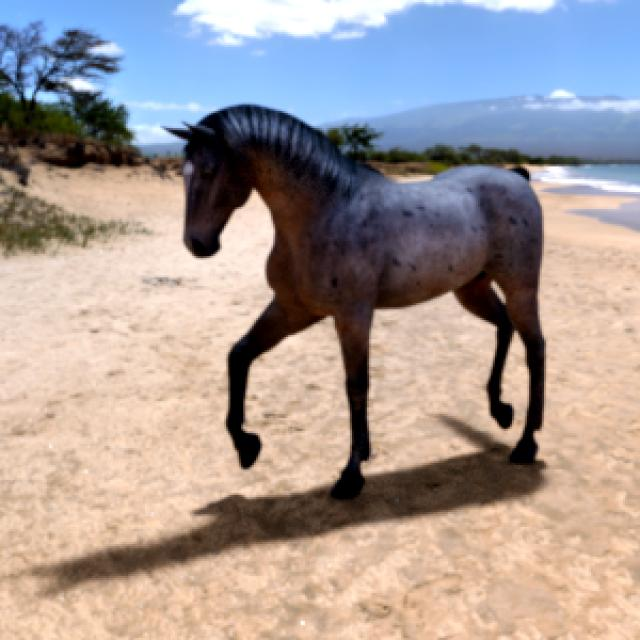horse: (173, 105, 545, 497)
